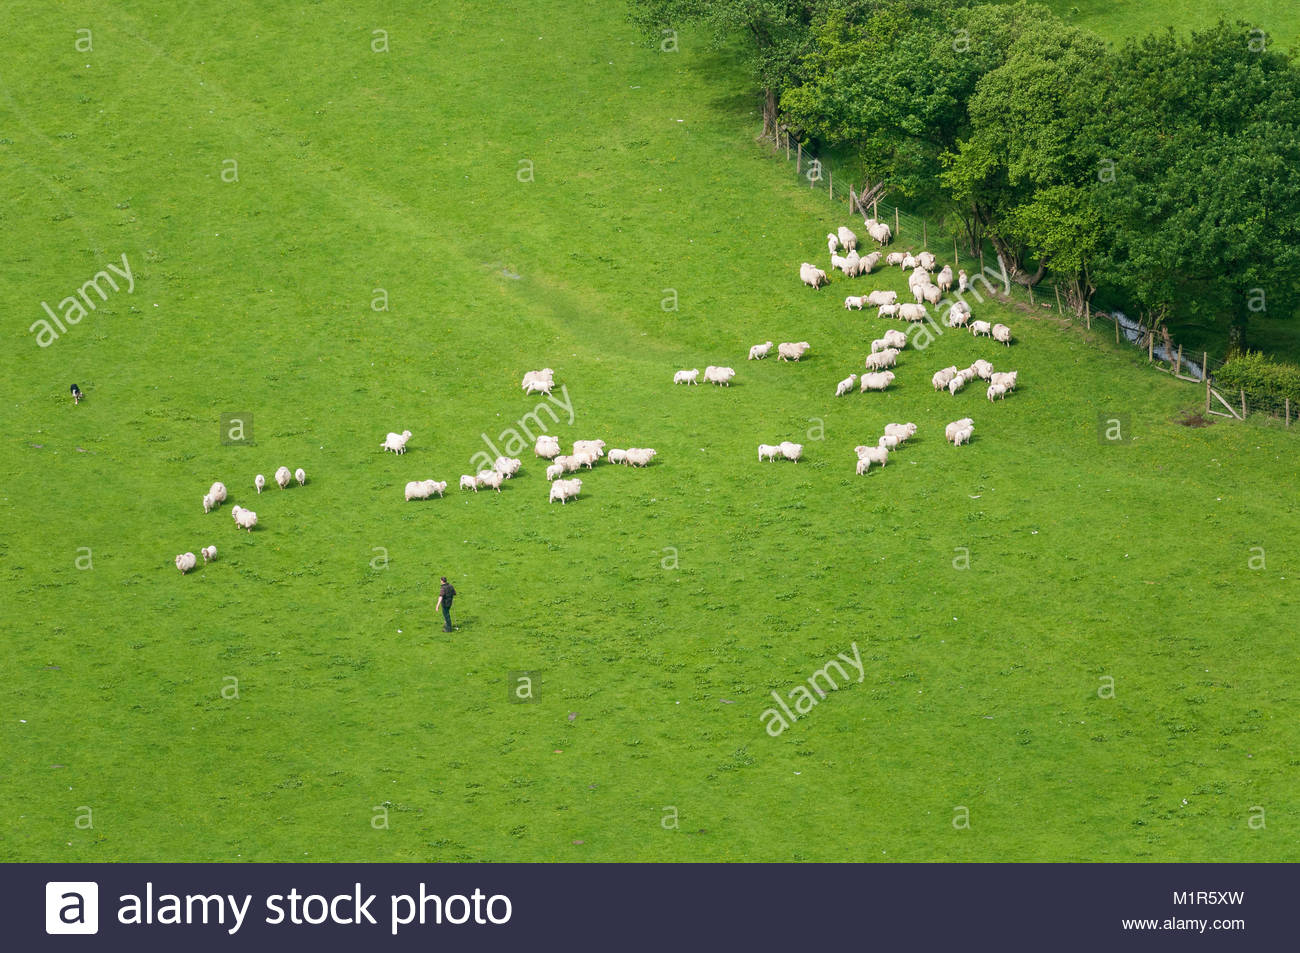sheep: (405, 478, 443, 503), (548, 478, 583, 505), (860, 369, 899, 393), (380, 430, 414, 455), (800, 259, 829, 290), (884, 421, 919, 443), (856, 444, 889, 467), (777, 340, 811, 362), (933, 363, 959, 392), (944, 416, 975, 439), (491, 456, 522, 479), (867, 349, 900, 369), (835, 372, 860, 398), (703, 365, 737, 385), (864, 217, 889, 242), (235, 506, 259, 532), (779, 439, 806, 462), (625, 448, 656, 468), (747, 340, 775, 361), (523, 380, 555, 398), (969, 358, 995, 381), (674, 366, 702, 387), (859, 251, 883, 275), (533, 439, 562, 458), (522, 366, 556, 383), (909, 267, 932, 291), (900, 302, 926, 323), (576, 448, 604, 467), (574, 439, 607, 455), (174, 552, 197, 574), (987, 381, 1011, 402), (757, 444, 782, 464), (955, 424, 975, 449), (546, 457, 567, 481), (479, 469, 504, 490), (992, 321, 1012, 345), (990, 369, 1018, 387), (836, 225, 856, 248), (937, 264, 956, 289), (884, 329, 907, 348), (846, 294, 871, 311), (274, 464, 290, 491), (458, 474, 484, 491), (211, 481, 229, 504), (871, 289, 898, 304), (951, 310, 971, 329), (917, 250, 937, 271), (971, 320, 992, 337), (830, 249, 847, 270), (887, 250, 911, 264), (608, 446, 626, 464), (871, 337, 894, 350), (202, 545, 218, 563), (825, 229, 837, 252), (956, 268, 969, 289), (294, 466, 306, 486), (202, 493, 215, 510), (252, 474, 265, 492)
